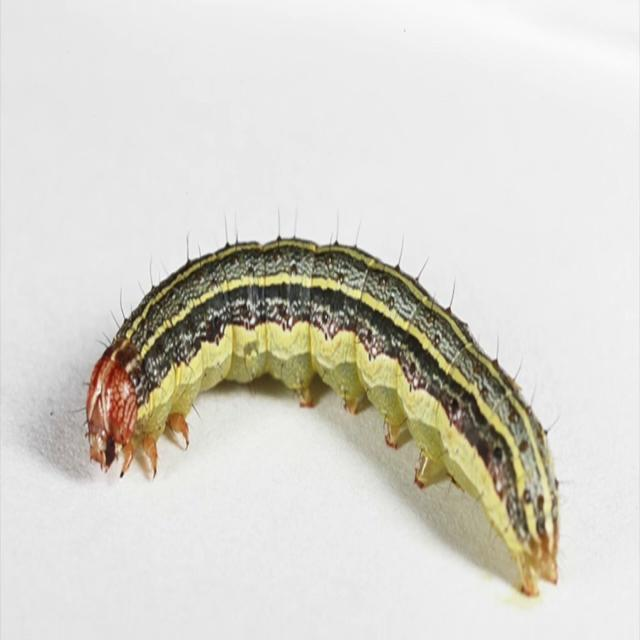pest-armyworm: (82, 219, 565, 604)
